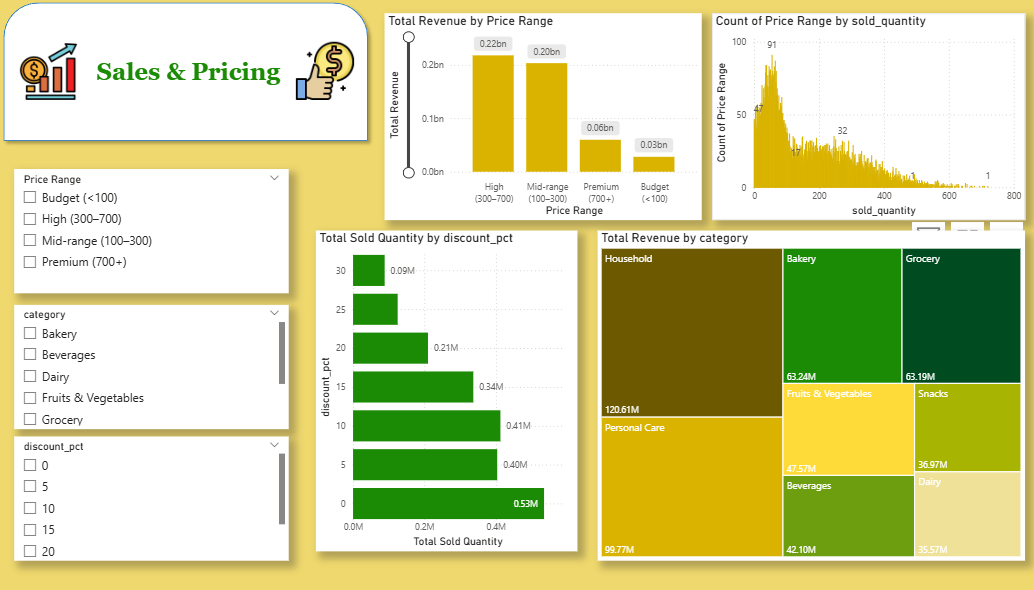

The dashboard page shown, as its layout file describes it:
{"tool":"powerbi","page":{"name":"sales and pricing","canvas":[1400,800],"ordinal":1},"visuals":[{"type":"shape","box":[0,0,507.6,203.7],"z":0},{"type":"image","box":[402.6,54.1,78,93.9],"z":1000},{"type":"image","box":[22.3,63.7,92.3,76.4],"z":2000},{"type":"textbox","box":[128.9,79.6,262.6,60.5],"z":3000},{"type":"clusteredColumnChart","fields":{"Category":["cleaned_blinkit_data.Price Range"],"Y":["cleaned_blinkit_data.Total Revenue"]},"box":[520.4,23.9,426.5,278.5],"z":4000},{"type":"clusteredColumnChart","fields":{"Category":["cleaned_blinkit_data.sold_quantity"],"Y":["CountNonNull(cleaned_blinkit_data.Price Range)"]},"box":[961.2,23.9,421.7,278.5],"z":5000},{"type":"clusteredBarChart","fields":{"Category":["cleaned_blinkit_data.discount_pct"],"Y":["cleaned_blinkit_data.Total Sold Quantity"]},"box":[429.7,315.1,351.7,431.3],"z":6000},{"type":"treemap","fields":{"Group":["cleaned_blinkit_data.category"],"Values":["cleaned_blinkit_data.Total Revenue"]},"box":[808.4,315.1,574.5,444],"z":7000},{"type":"slicer","fields":{"Values":["cleaned_blinkit_data.Price Range"]},"box":[22.3,232.3,369.2,167.1],"z":8000},{"type":"slicer","fields":{"Values":["cleaned_blinkit_data.category"]},"box":[22.3,415.3,369.2,167.1],"z":9000},{"type":"slicer","fields":{"Values":["cleaned_blinkit_data.discount_pct"]},"box":[22.3,592,369.2,167.1],"z":10000}]}

Visuals, with their boxes in screenshot pixels (x1, y1, x2, y2), scaled from the page's 1400x800 canvas onto the 1034x590 screenshot:
shape: region(0, 0, 375, 150)
image: region(297, 40, 355, 109)
image: region(16, 47, 85, 103)
textbox: region(95, 59, 289, 103)
clusteredColumnChart - cleaned_blinkit_data.Price Range x cleaned_blinkit_data.Total Revenue: region(384, 18, 699, 223)
clusteredColumnChart - cleaned_blinkit_data.sold_quantity x CountNonNull(cleaned_blinkit_data.Price Range): region(710, 18, 1021, 223)
clusteredBarChart - cleaned_blinkit_data.discount_pct x cleaned_blinkit_data.Total Sold Quantity: region(317, 232, 577, 550)
treemap - cleaned_blinkit_data.category x cleaned_blinkit_data.Total Revenue: region(597, 232, 1021, 560)
slicer - cleaned_blinkit_data.Price Range: region(16, 171, 289, 295)
slicer - cleaned_blinkit_data.category: region(16, 306, 289, 430)
slicer - cleaned_blinkit_data.discount_pct: region(16, 437, 289, 560)
